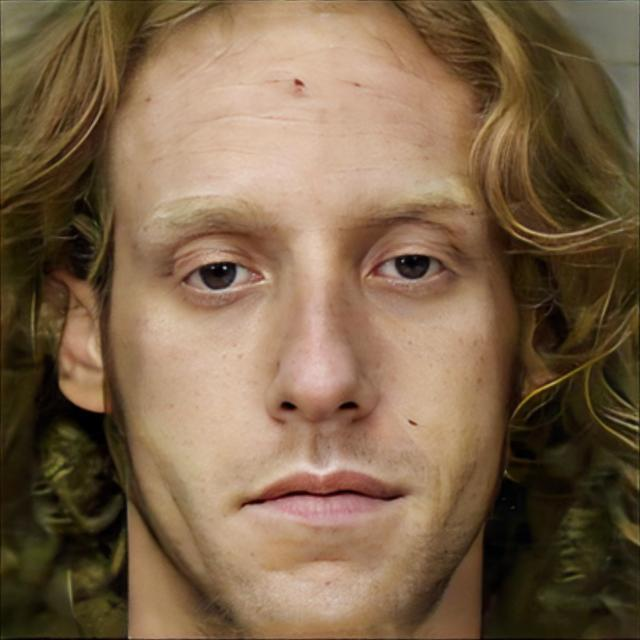neutral: (105, 0, 523, 640)
